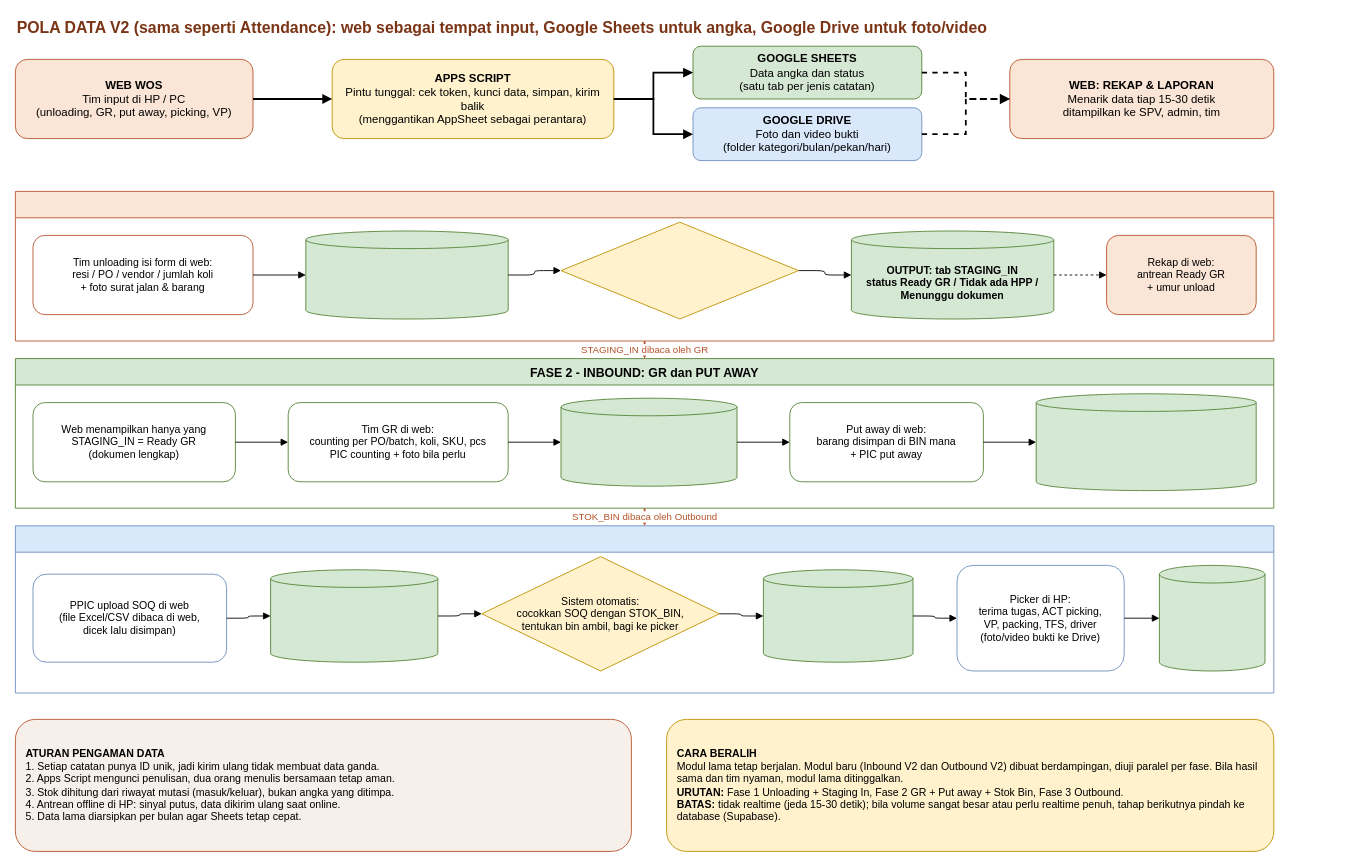
Some shapes in this 1351 by 867 pixel diagram are drawn without their labels. Here are the shapes that lost their labels. From the top down, the box of each, then its label:
(305, 230, 508, 319): Tab UNLOADING (satu baris per koli/dokumen, id unik + waktu + PIC)
(15, 191, 1274, 341): FASE 1 - INBOUND: UNLOADING (penerimaan barang di web)
(560, 221, 799, 319): Sistem cek kelengkapan dokumen: PO, HPP, surat jalan, jumlah cocok
(560, 397, 737, 486): Tab GR (batch, koli, SKU, pcs, PIC)
(1035, 393, 1256, 491): OUTPUT: tab STOK_BIN (riwayat mutasi masuk/keluar, stok = jumlah mutasi)
(270, 569, 438, 662): Tab SOQ (outlet, batch, SKU, qty)
(15, 525, 1274, 693): FASE 3 - OUTBOUND (input: stok bin dari Inbound + SOQ dari PPIC)
(763, 569, 913, 662): Tab ASSIGNMENT (picker, bin, koli)
(1159, 565, 1265, 671): OUTPUT: laporan outbound + stok keluar (mutasi)
